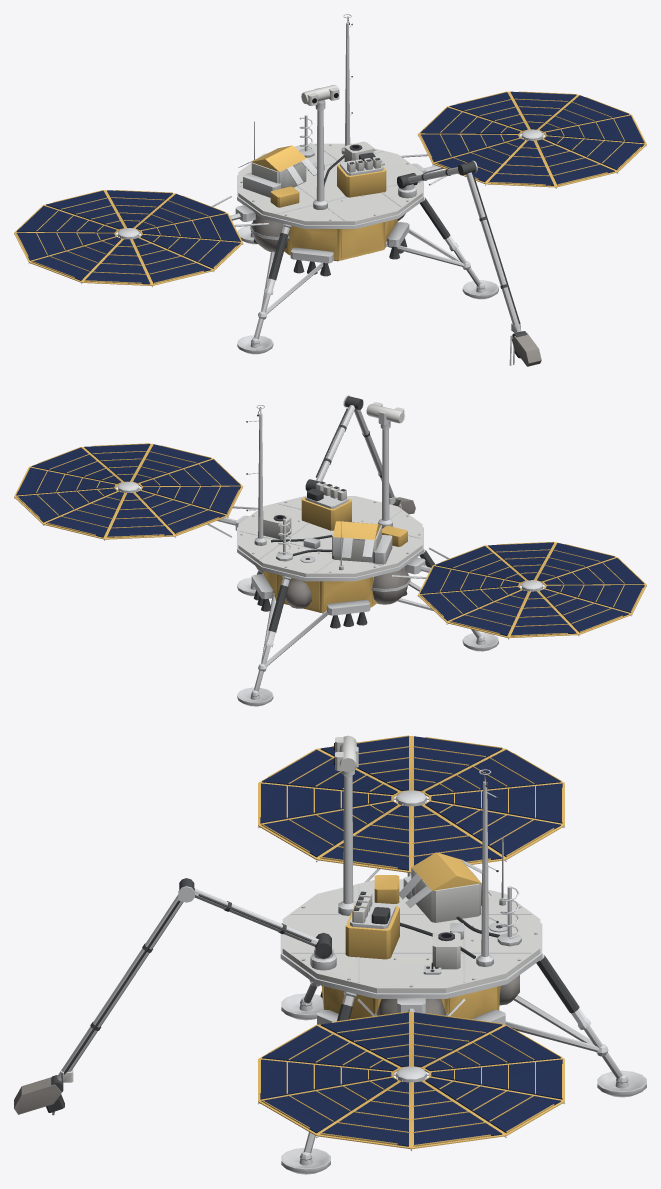
The model's file is phoenix.glb.
3 renders of one model, top to bottom at view 1: azimuth 30°, elevation 25°; view 2: azimuth 150°, elevation 25°; view 3: azimuth 270°, elevation 25°, orthographic. The views are drawn at different scales.
Parts seen in each view (by area): view 1: phoenix_mesh; view 2: phoenix_mesh; view 3: phoenix_mesh.
Boxes of the visible parts, x1,y1,x2,y2 form: phoenix_mesh: (14, 14, 646, 366); phoenix_mesh: (14, 395, 646, 706); phoenix_mesh: (14, 735, 646, 1174).
Bounding box in the file's own units: 5.56 × 2.18 × 3.6.
